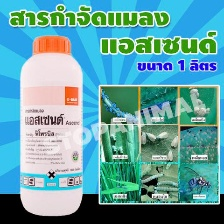insecticide: (16, 31, 86, 220)
